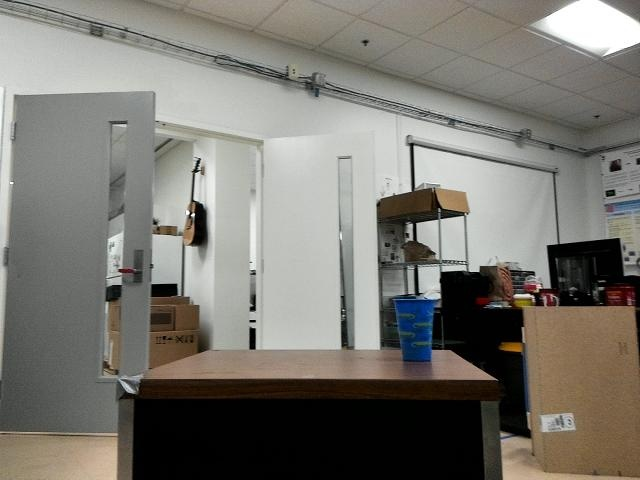water_cup: (393, 293, 440, 364)
